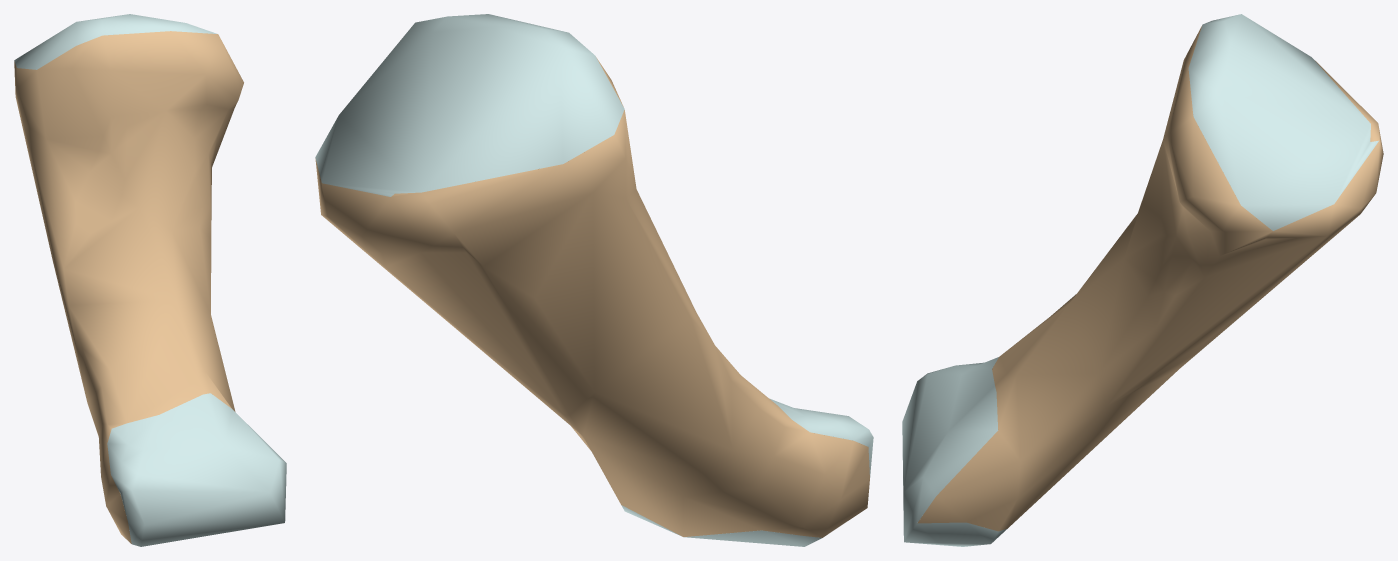
The model's file is Middle_phalanx_of_5th_finger.l_Generated_Mesh_From_X3D.715.glb.
3 views of the same model, side by side, from view 1: azimuth 30°, elevation 25°; view 2: azimuth 150°, elevation 25°; view 3: azimuth 270°, elevation 25° (orthographic). The views are drawn at different scales.
Parts seen in each view (by area): view 1: Middle_phalanx_of_5th_finger.l_Generated_Mesh_From_X3D.715; view 2: Middle_phalanx_of_5th_finger.l_Generated_Mesh_From_X3D.715; view 3: Middle_phalanx_of_5th_finger.l_Generated_Mesh_From_X3D.715.
Part boxes in pixels (<box>): Middle_phalanx_of_5th_finger.l_Generated_Mesh_From_X3D.715: <box>14,14,286,546</box>; Middle_phalanx_of_5th_finger.l_Generated_Mesh_From_X3D.715: <box>315,14,873,546</box>; Middle_phalanx_of_5th_finger.l_Generated_Mesh_From_X3D.715: <box>902,14,1383,546</box>.
Size of the model in its own units: 0.0121 by 0.0205 by 0.0173.
